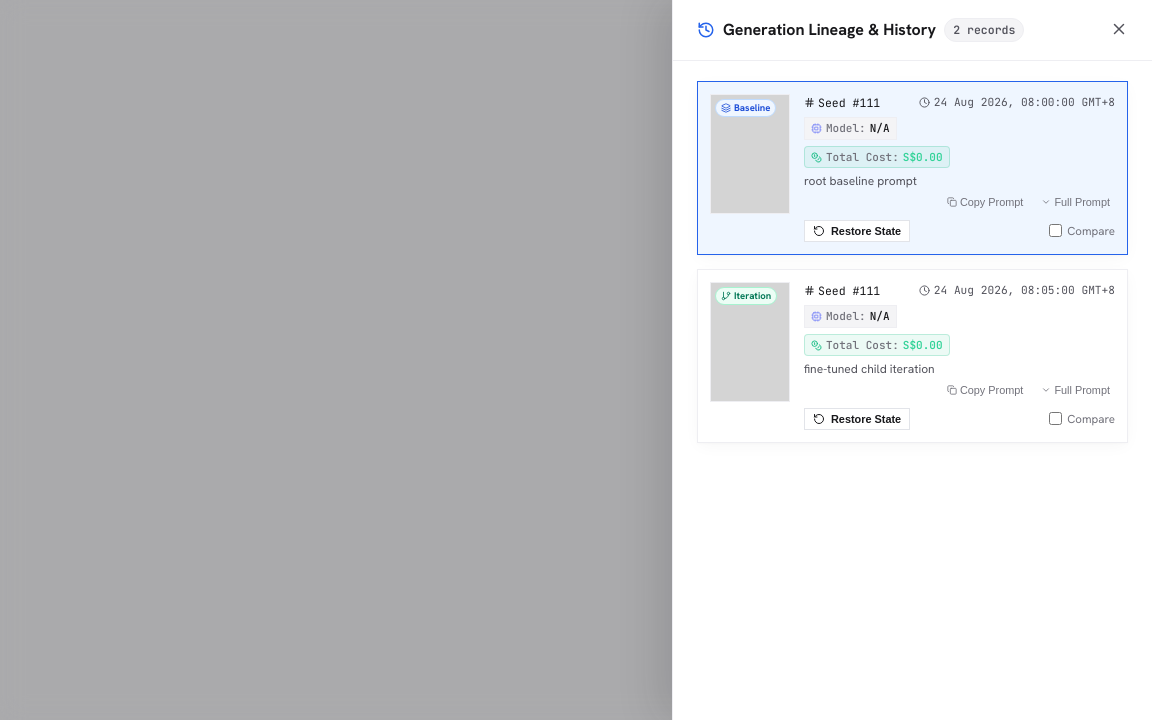
it: HistoryDrawer › supports copying and expanding full prompt on history cards
Click the button "Copy Prompt" below "root baseline prompt": (985, 202) x1=942 y1=194 x2=1028 y2=210
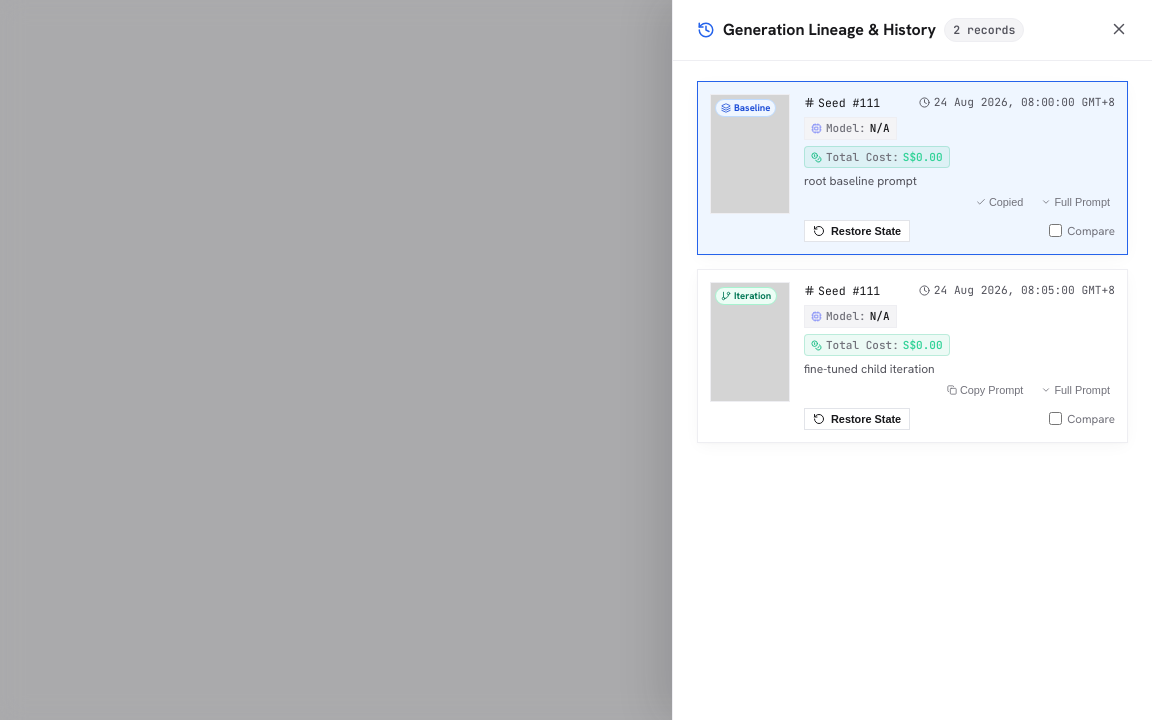
Click the button "Full Prompt" below "root baseline prompt": (1076, 202) x1=1036 y1=194 x2=1115 y2=210
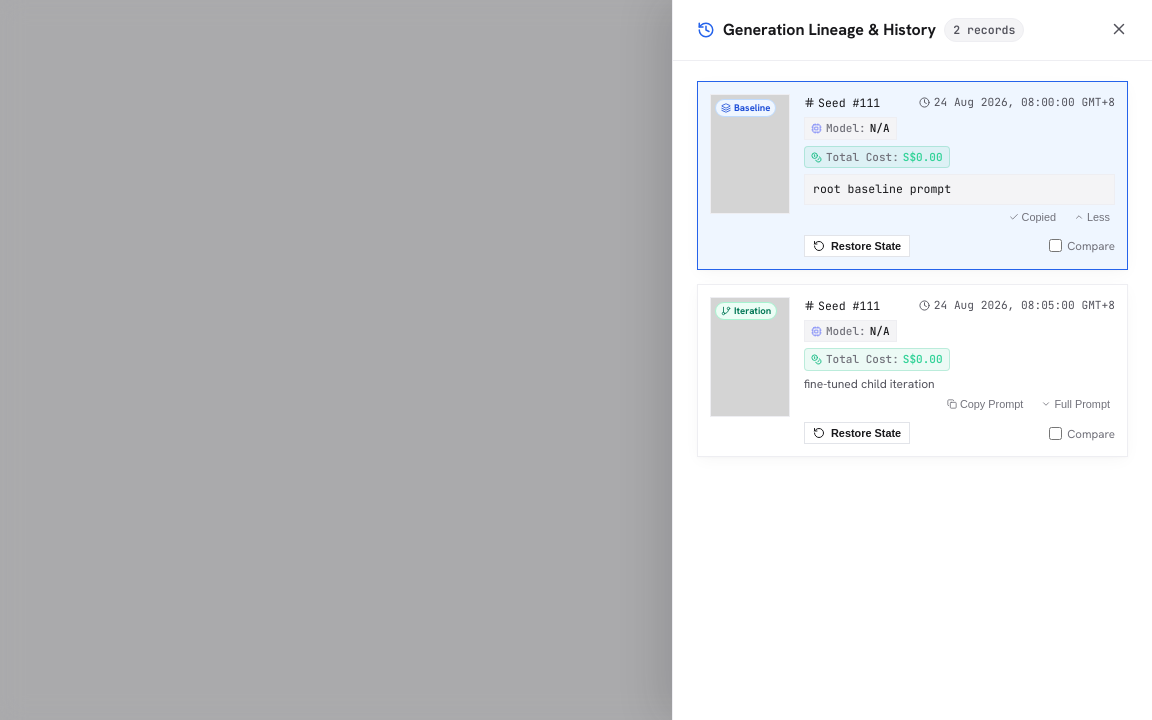
Now the button "Less" is shown, box x1=1069 y1=208 x2=1115 y2=224
